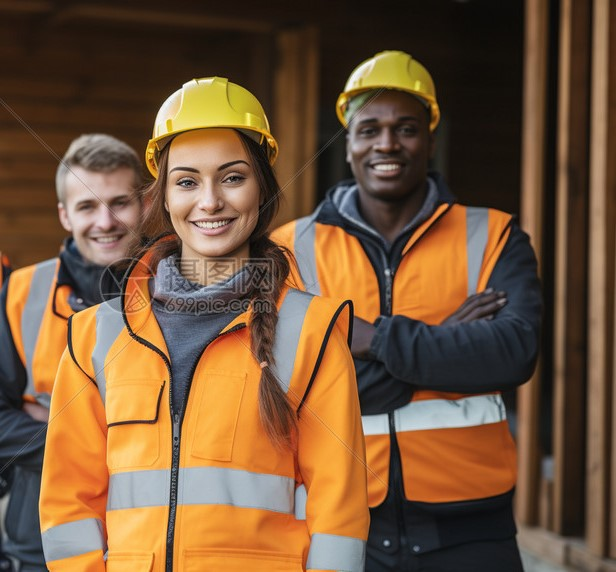vest: (1, 134, 166, 492)
vest_hat: (40, 72, 382, 572), (264, 47, 536, 498)
